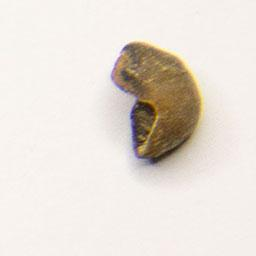defect: (104, 37, 206, 167)
